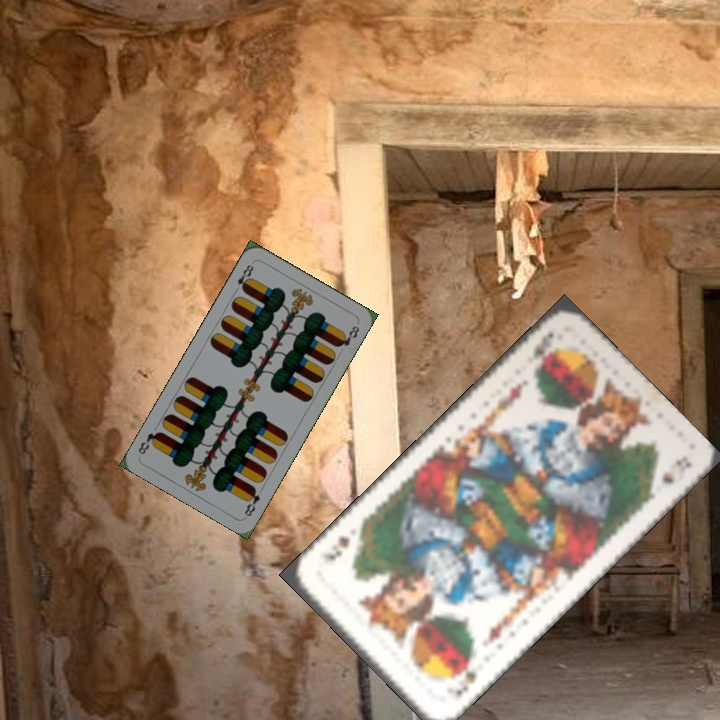E8: (230, 260, 256, 296), (240, 483, 263, 519)
SK: (448, 654, 479, 700), (528, 328, 559, 361)
